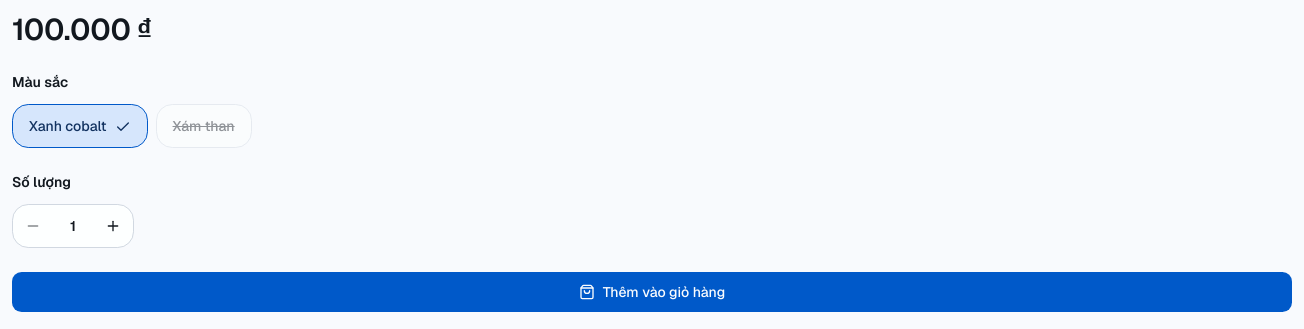
Test: ProductPurchasePanel › caps the quantity selector at the resolved variant's stock
Click the button named "Tăng số lượng" at (113,226), box [93,206,133,246]
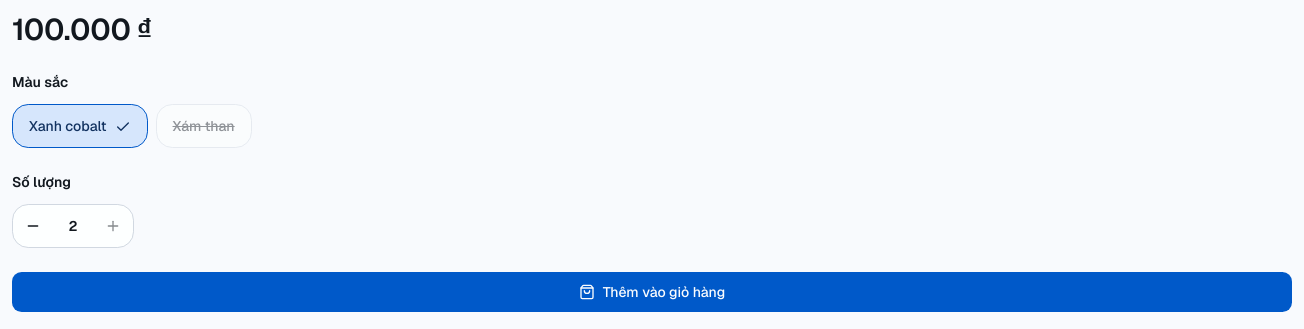
Check: the button named "Tăng số lượng" is disabled, box [93,206,133,246]
